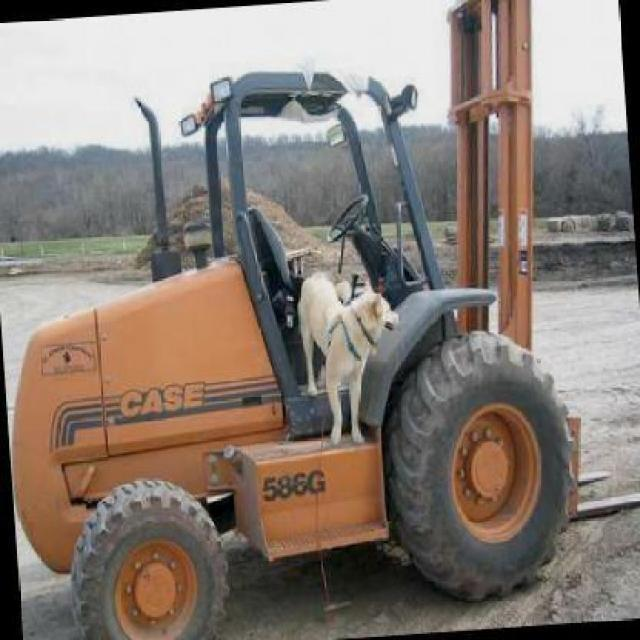forklift: (10, 47, 611, 640)
